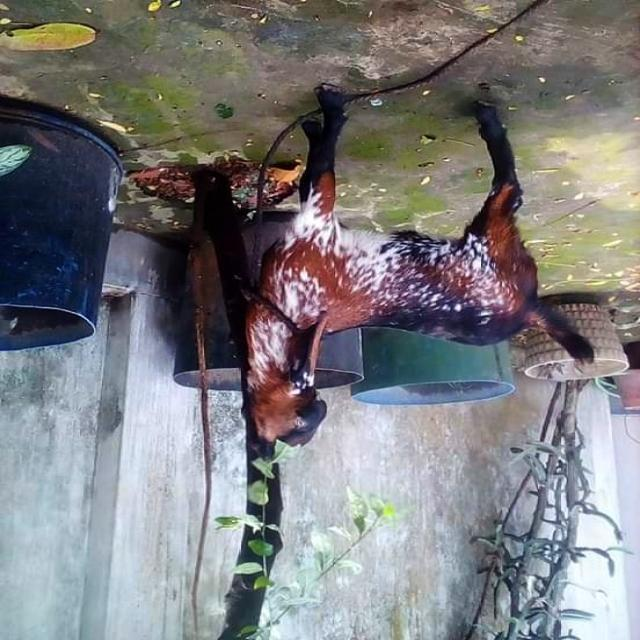Goat: (238, 84, 595, 461)
